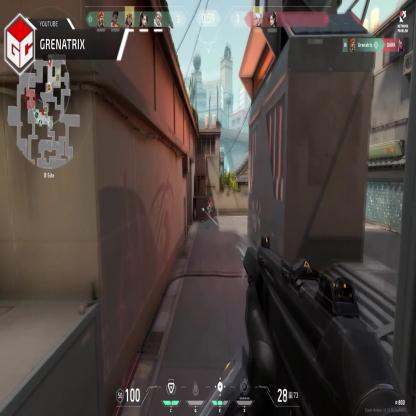enemy: (208, 196, 212, 221)
enemy_head: (210, 199, 212, 203)
